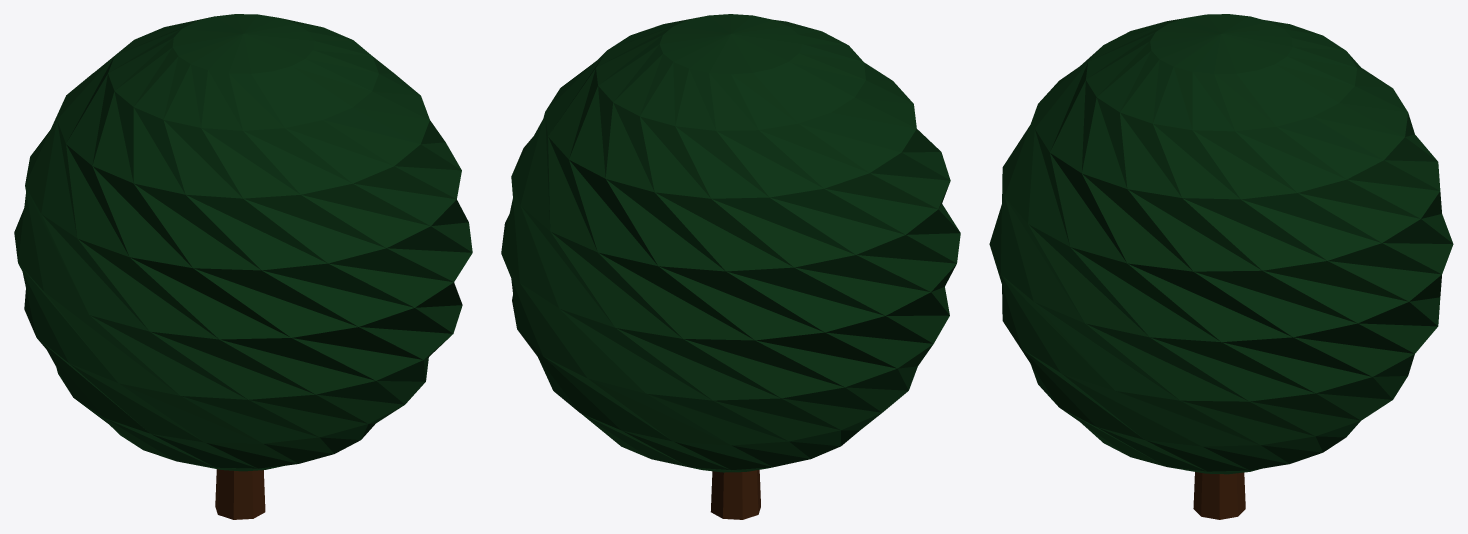
Rendered from Bush_b_a_01.fbx.
3 views of the same model, side by side, from view 1: azimuth 30°, elevation 25°; view 2: azimuth 150°, elevation 25°; view 3: azimuth 270°, elevation 25° (orthographic).
Visible parts, largest first — view 1: Bush_b_a_01_LOD0; view 2: Bush_b_a_01_LOD0; view 3: Bush_b_a_01_LOD0.
Boxes of the visible parts, left/top/right/bottom form: Bush_b_a_01_LOD0: left=14, top=14, right=472, bottom=519; Bush_b_a_01_LOD0: left=501, top=14, right=960, bottom=519; Bush_b_a_01_LOD0: left=989, top=14, right=1453, bottom=519.
Size of what is drawn, in the model's own units: 22.94 by 26.02 by 22.94.
